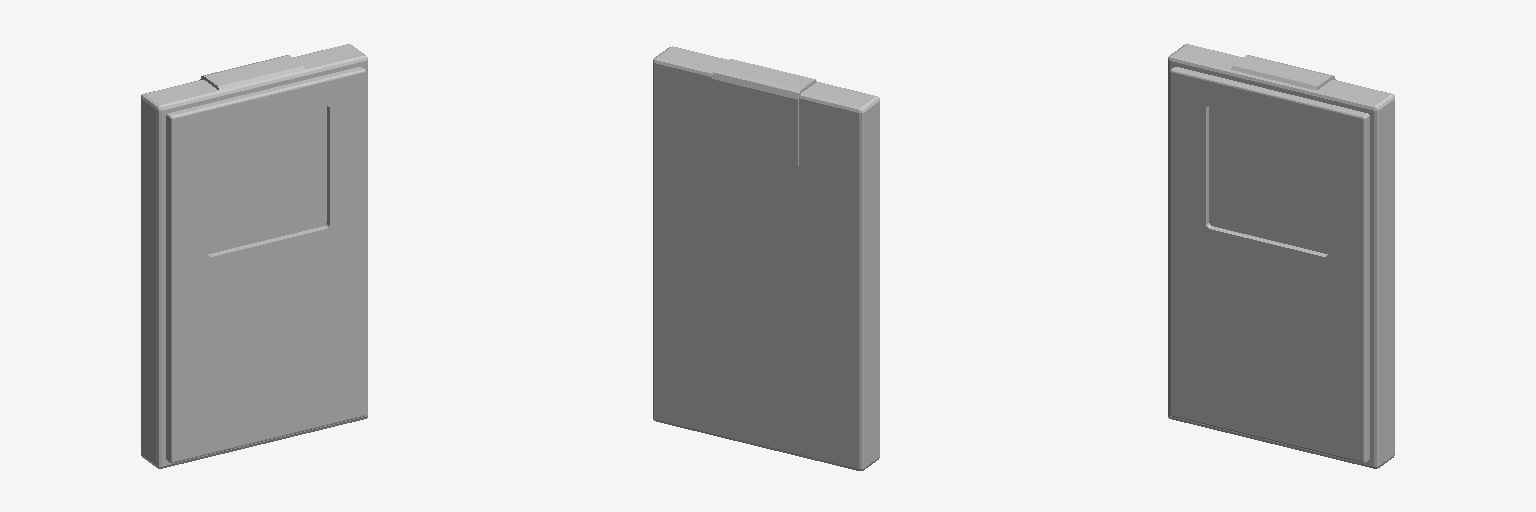
Rendered from Siemens.obj.
3 views of the same model, side by side, from view 1: azimuth 30°, elevation 25°; view 2: azimuth 150°, elevation 25°; view 3: azimuth 330°, elevation 25° (orthographic).
Parts seen in each view (by area): view 1: Cube_Cube.001; view 2: Cube_Cube.001; view 3: Cube_Cube.001.
Part boxes in pixels (bbox=[...]): Cube_Cube.001: bbox=[141, 44, 367, 468]; Cube_Cube.001: bbox=[653, 46, 879, 470]; Cube_Cube.001: bbox=[1168, 44, 1394, 468].
Bounding box in the file's own units: 1.22 × 2.02 × 0.2584.